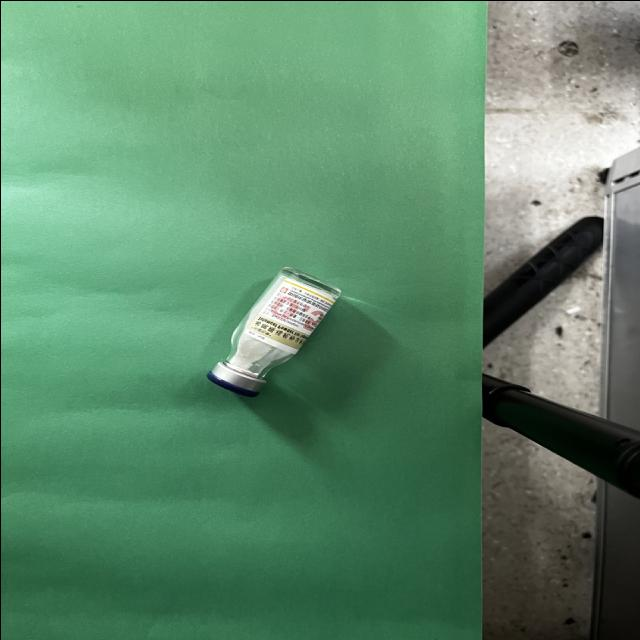Vials: (206, 266, 341, 397)
